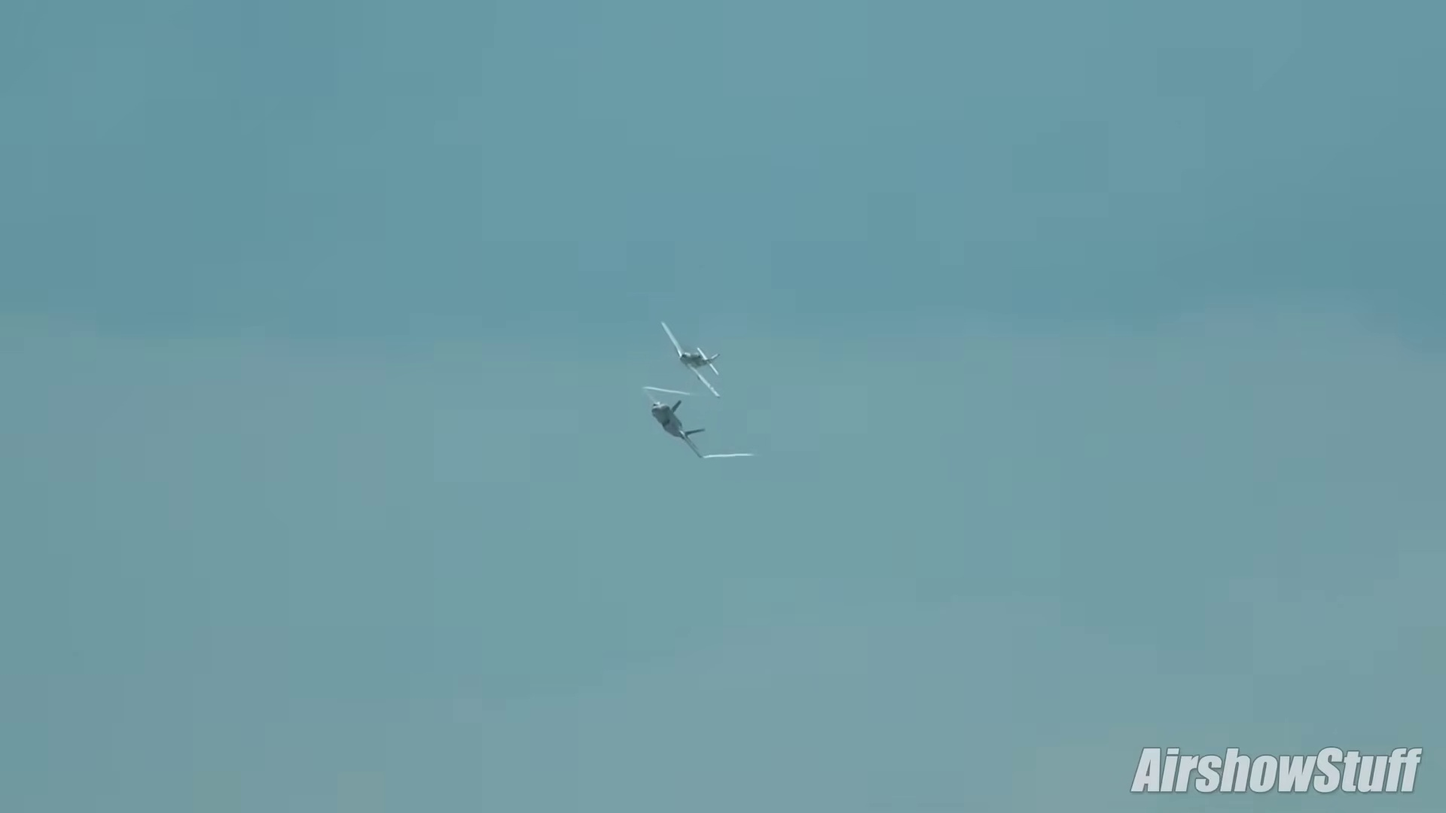F35: (638, 379, 720, 466)
